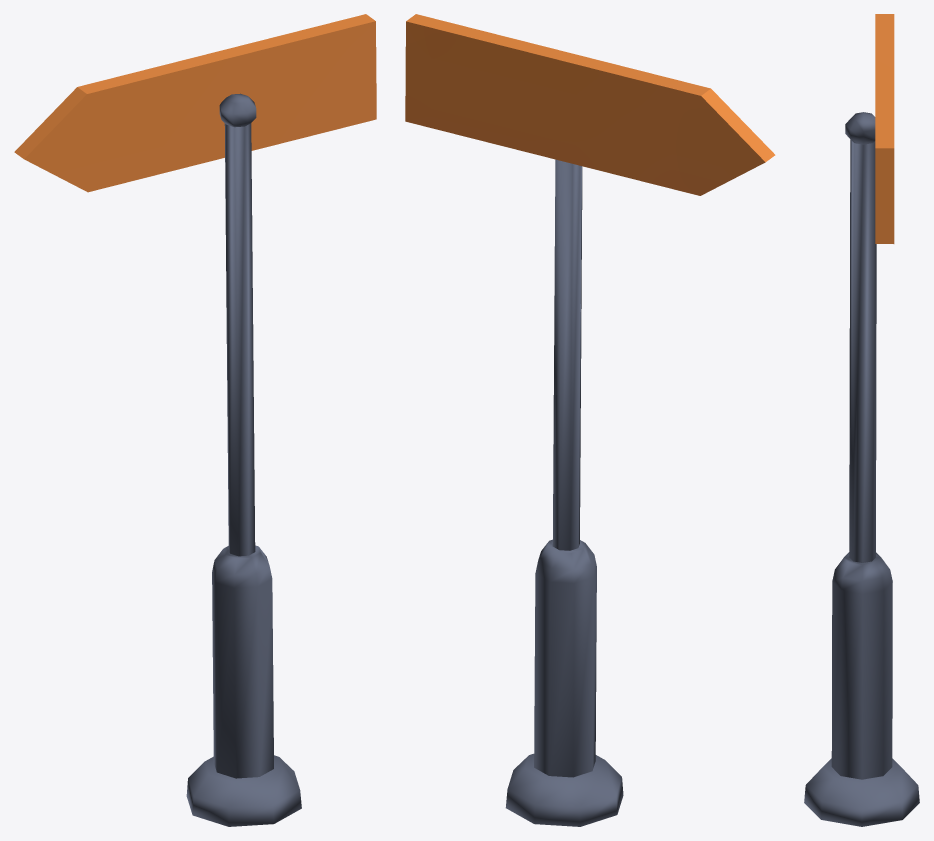
The model's file is bienchiduong.fbx.
3 renders of one model, left to right at view 1: azimuth 30°, elevation 25°; view 2: azimuth 150°, elevation 25°; view 3: azimuth 270°, elevation 25°, orthographic. The views are drawn at different scales.
Visible parts, largest first — view 1: bienchiduong; view 2: bienchiduong; view 3: bienchiduong.
Boxes of the visible parts, left/top/right/bottom form: bienchiduong: left=14, top=14, right=376, bottom=826; bienchiduong: left=405, top=14, right=775, bottom=826; bienchiduong: left=804, top=14, right=919, bottom=826.
Size of the model in its own units: 157 by 316 by 46.02.
